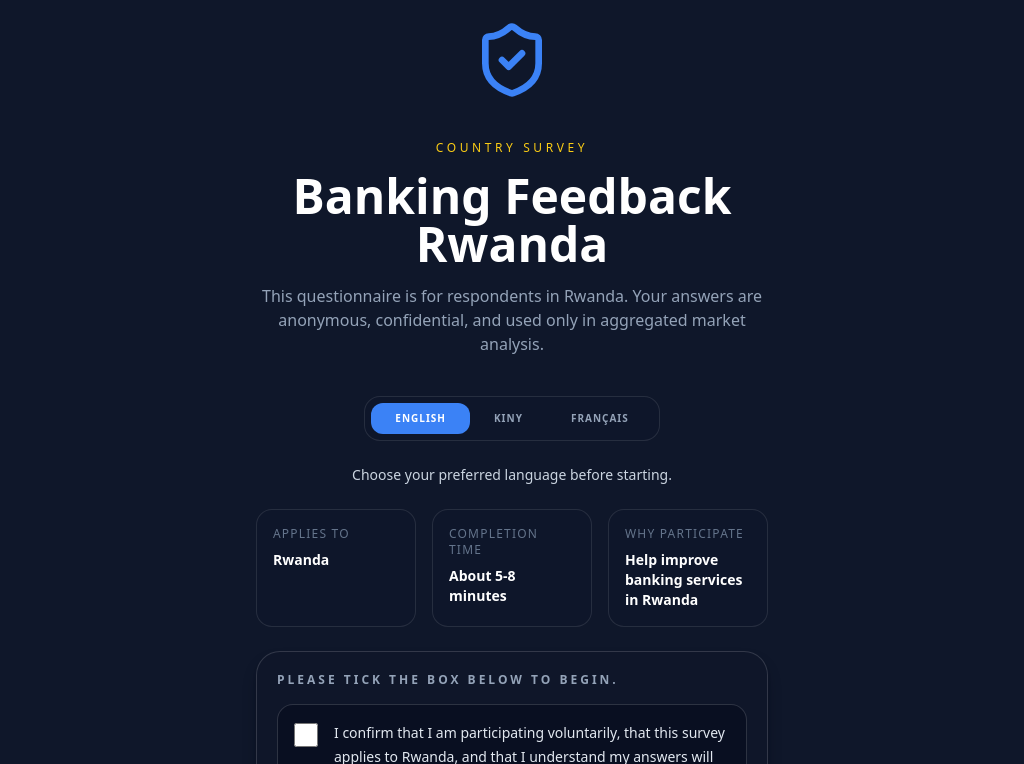
Scenario: survey country routes › starts direct Rwanda links at the first real research question after intro consent
The image size is (1024, 764).
Step 1. Click the checkbox → coordinates (306, 735), box [294,723,318,747]
(page scrolled)
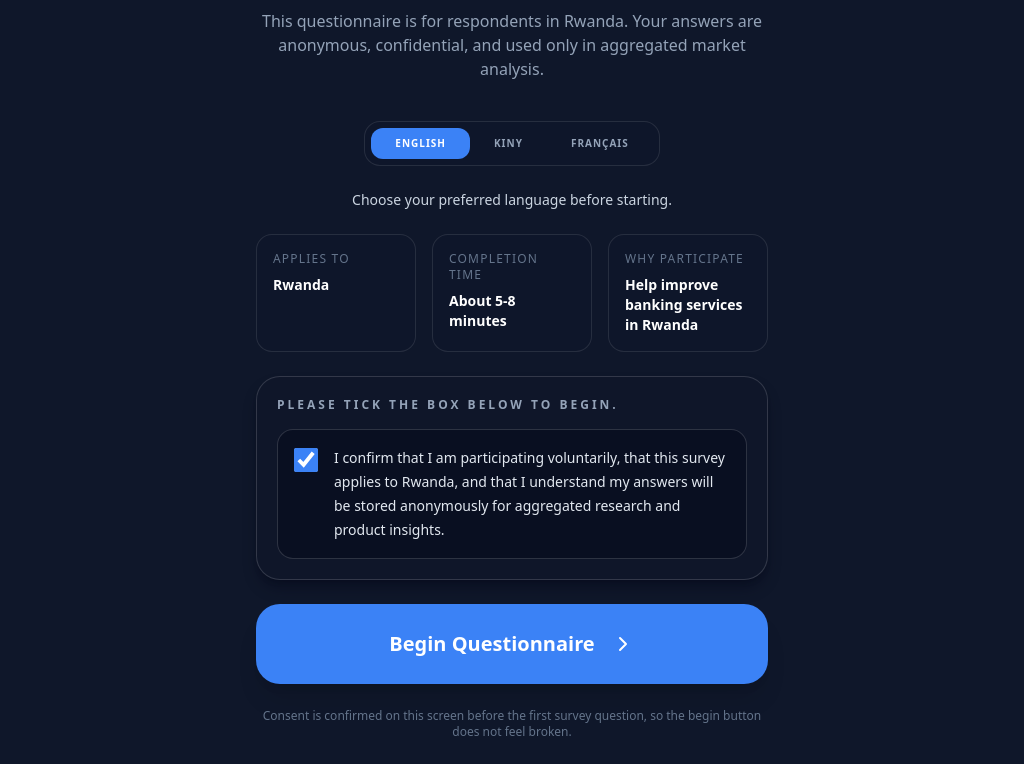
Step 2. Click the button "Begin Questionnaire" → coordinates (512, 644), box [256,604,768,684]
(page scrolled)
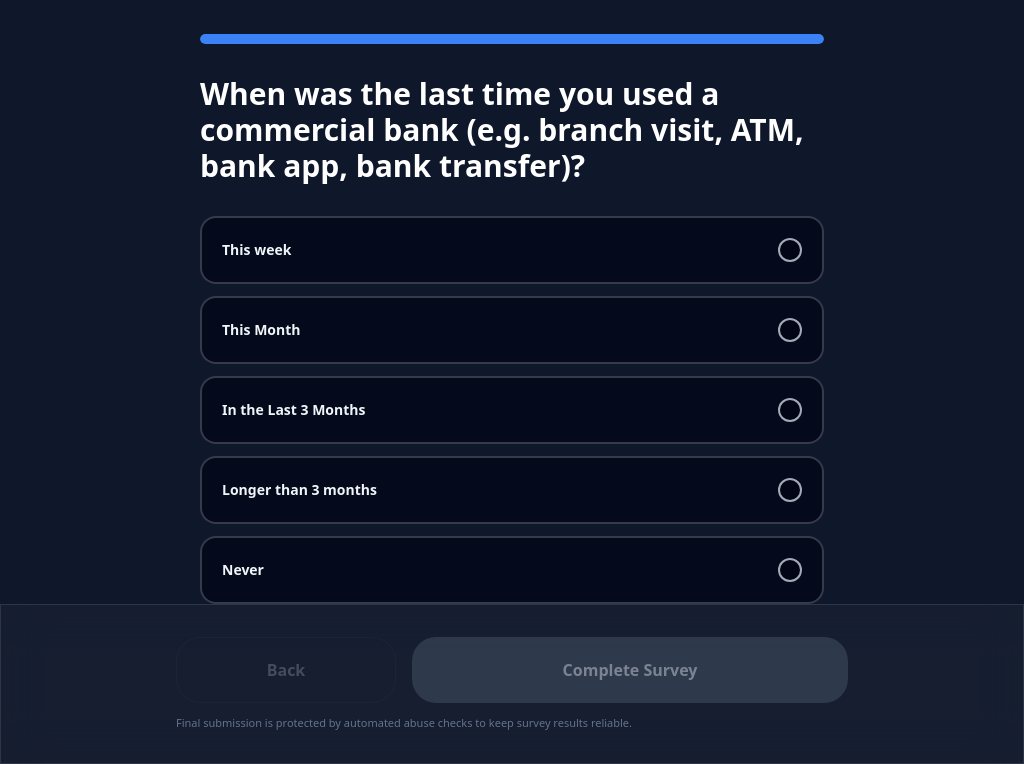
Expected: the heading "When was the last time you used a commercial bank" is shown, [200,73,804,186]
